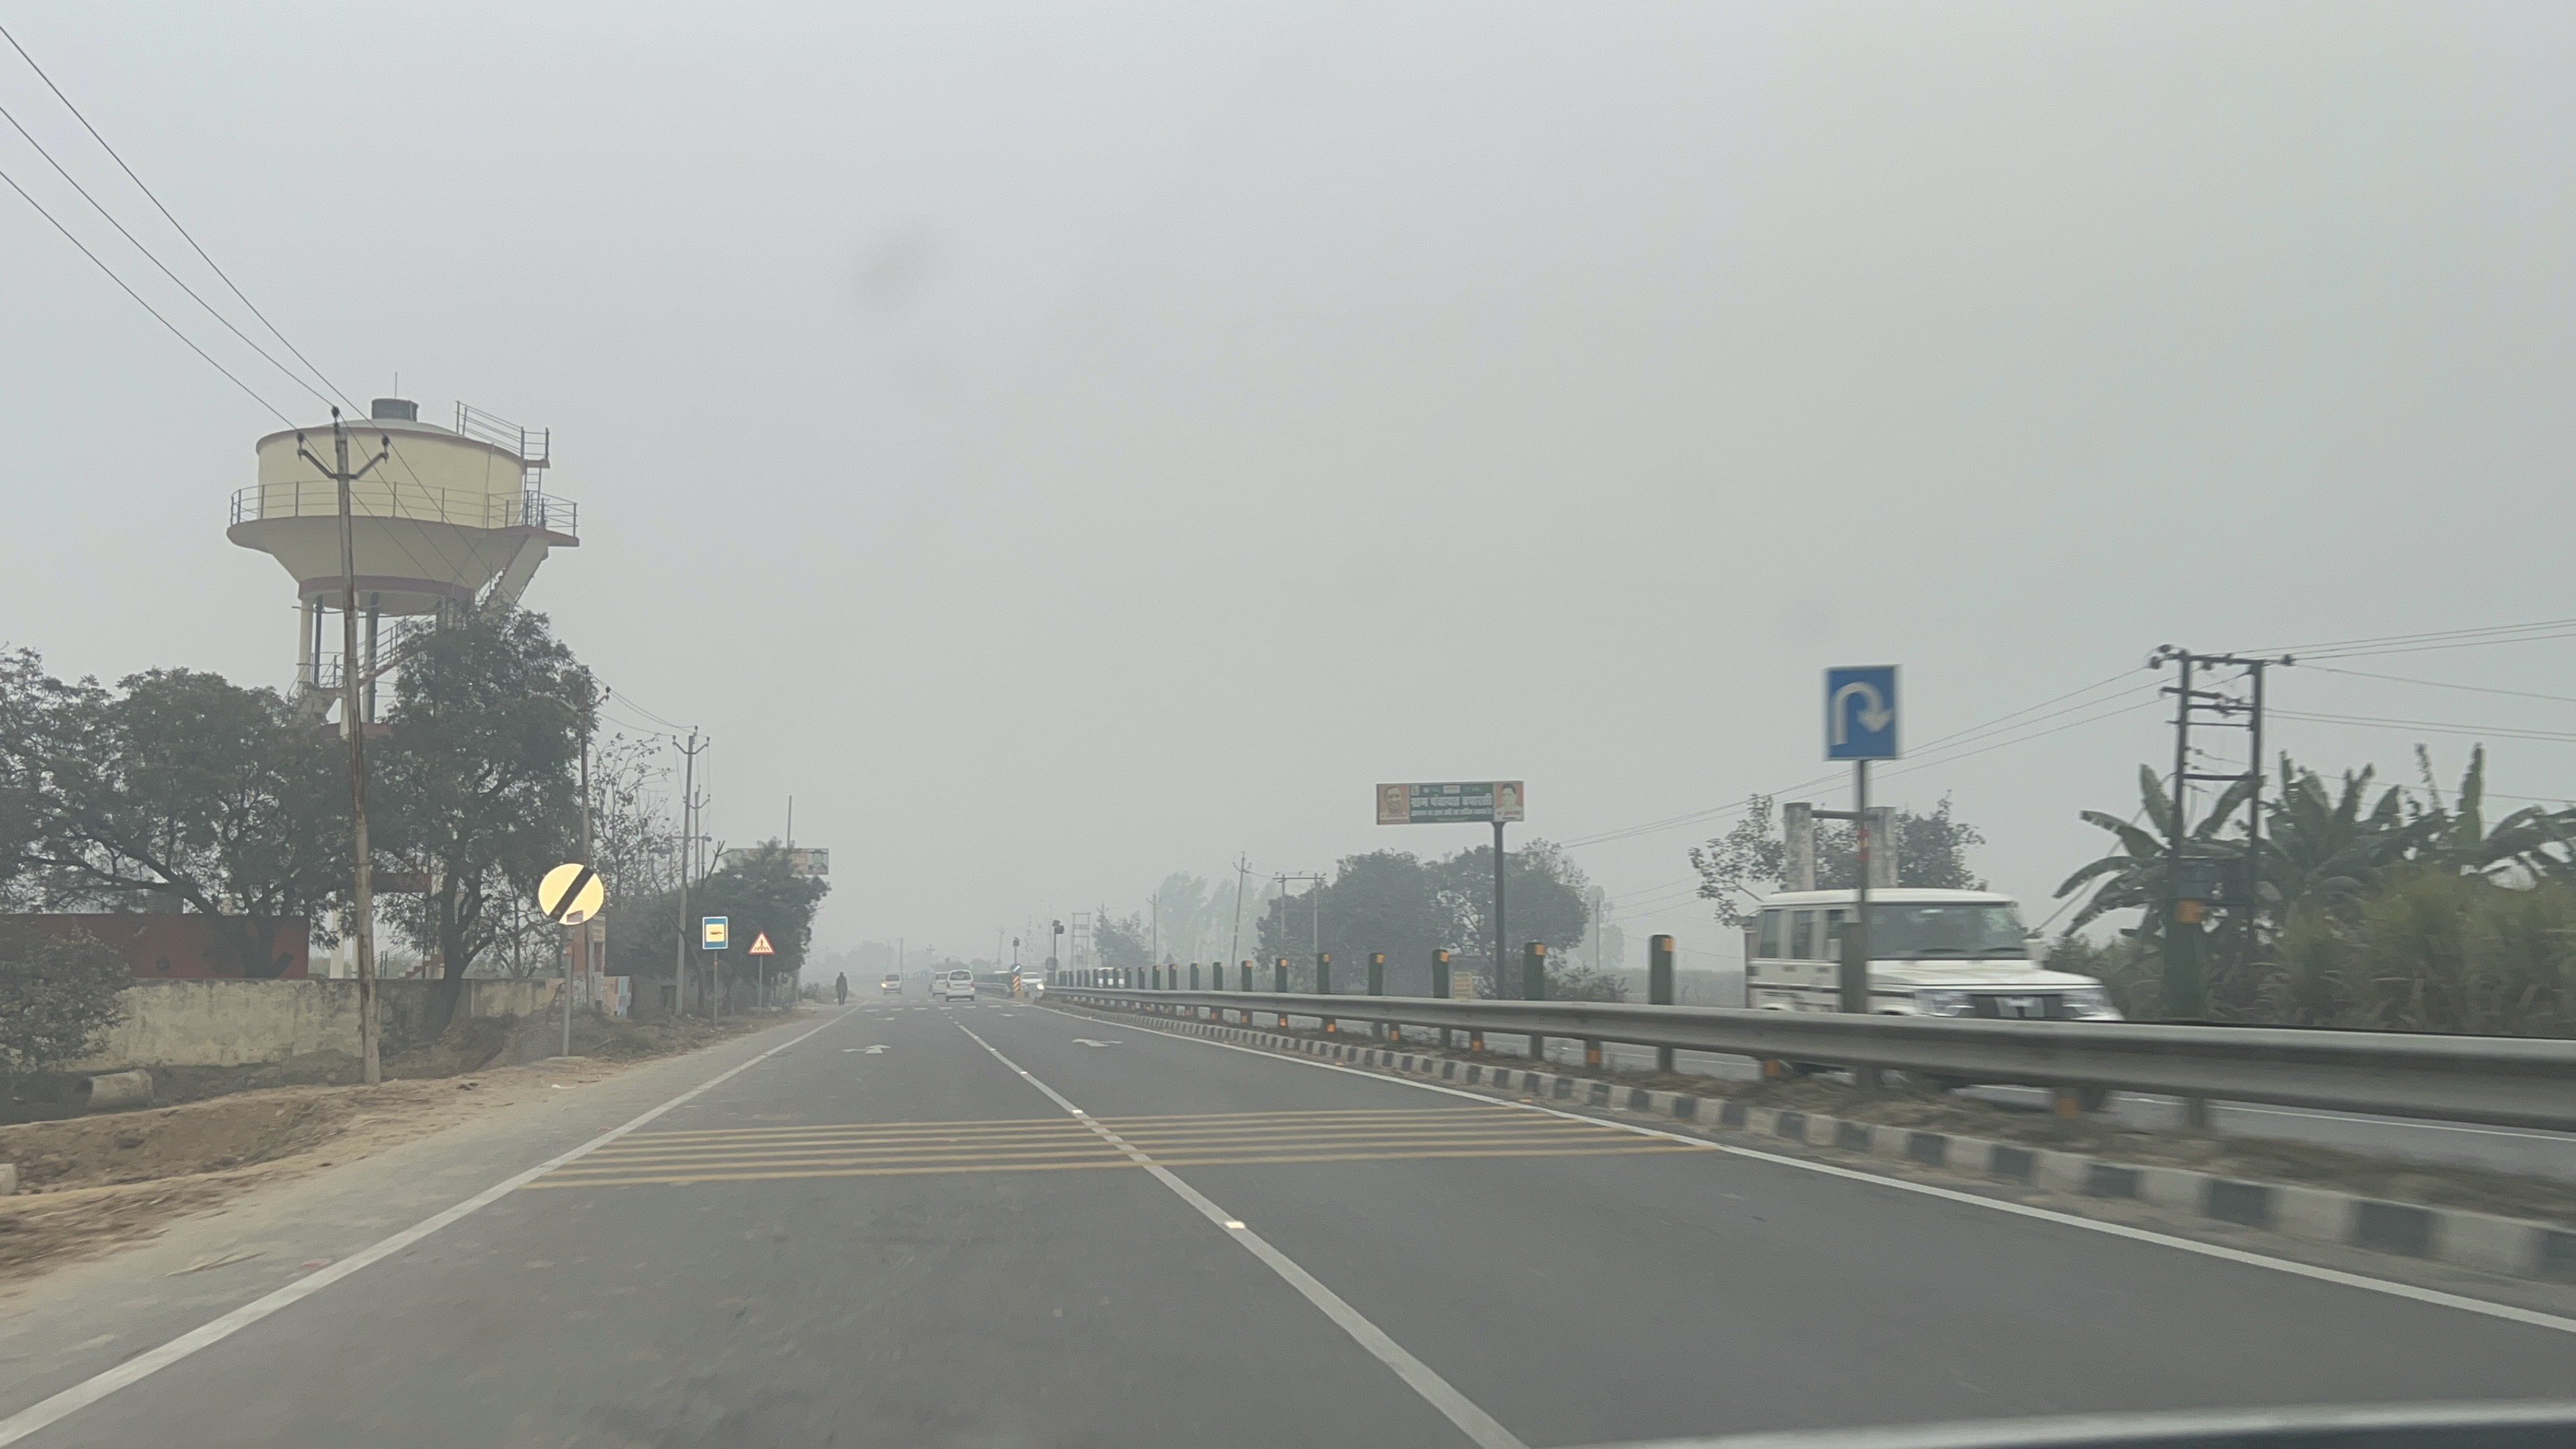General: (1008, 975, 1023, 993)
Informatory: (1819, 660, 1911, 766), (695, 911, 732, 950)
Mandatory: (531, 858, 612, 931)
Regulatory: (1008, 961, 1024, 975)
Warning: (748, 925, 778, 959)
